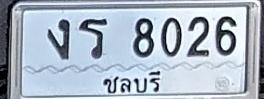0: (160, 16, 182, 56)
2: (187, 16, 209, 56)
6: (215, 15, 236, 55)
8: (133, 17, 154, 57)
A07: (47, 18, 70, 60)
A35: (78, 18, 108, 59)
CBI: (99, 68, 165, 96)
